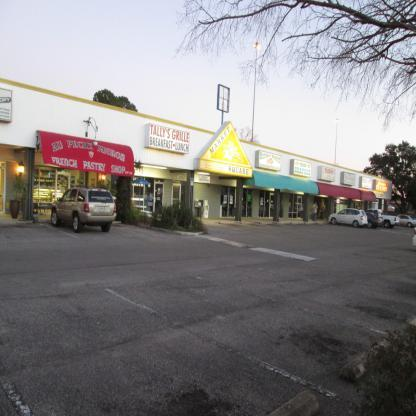car: (51, 185, 116, 232), (328, 206, 369, 228), (366, 209, 382, 226), (398, 215, 414, 227)
